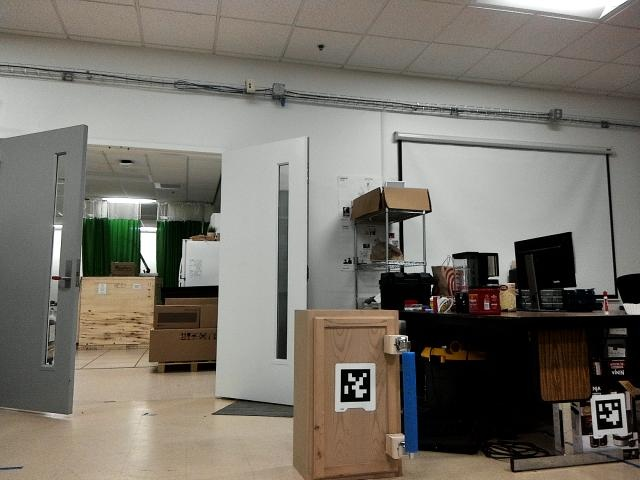noodle_handle: (399, 343, 421, 457)
